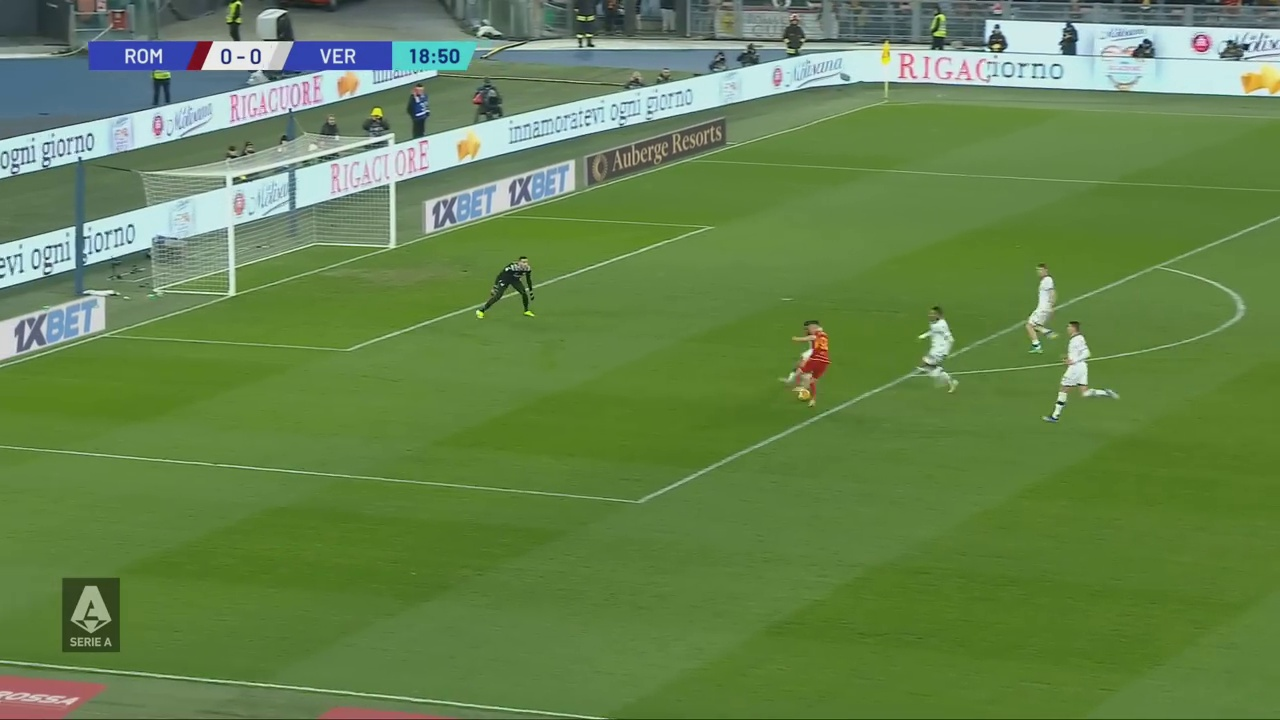ball: (672, 313, 696, 337)
